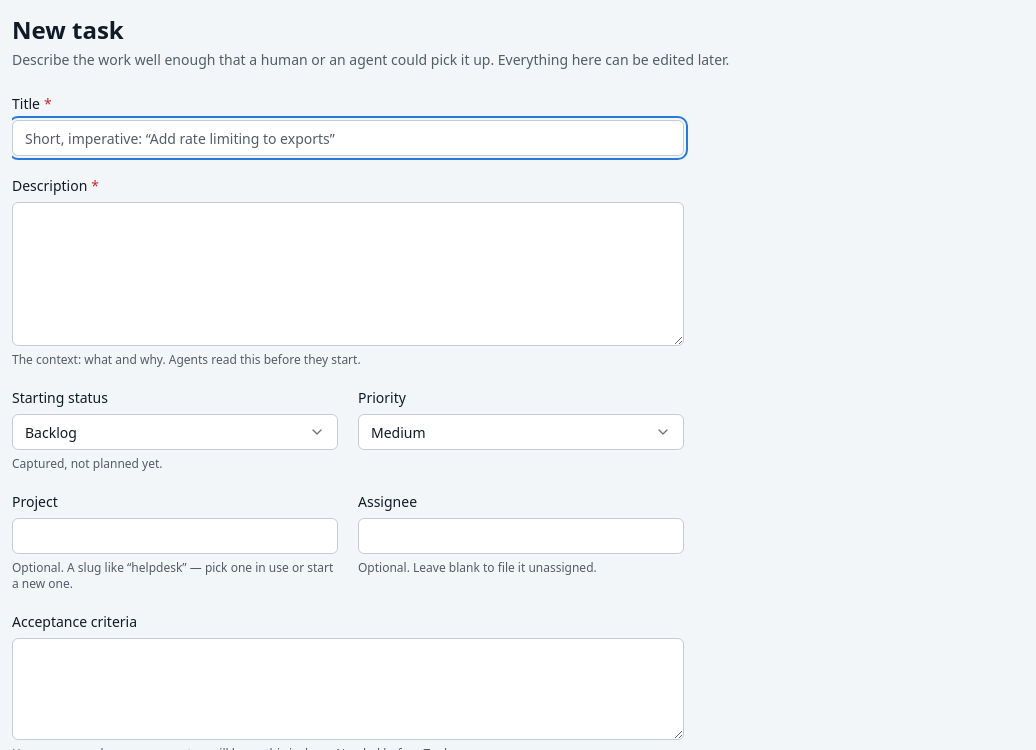
Test: TaskCreatePage › keeps every typed value when the server rejects the payload
Type "Add rate limiting to exports" into the field labelled "Title*" at (348, 138), box [12,120,684,156]
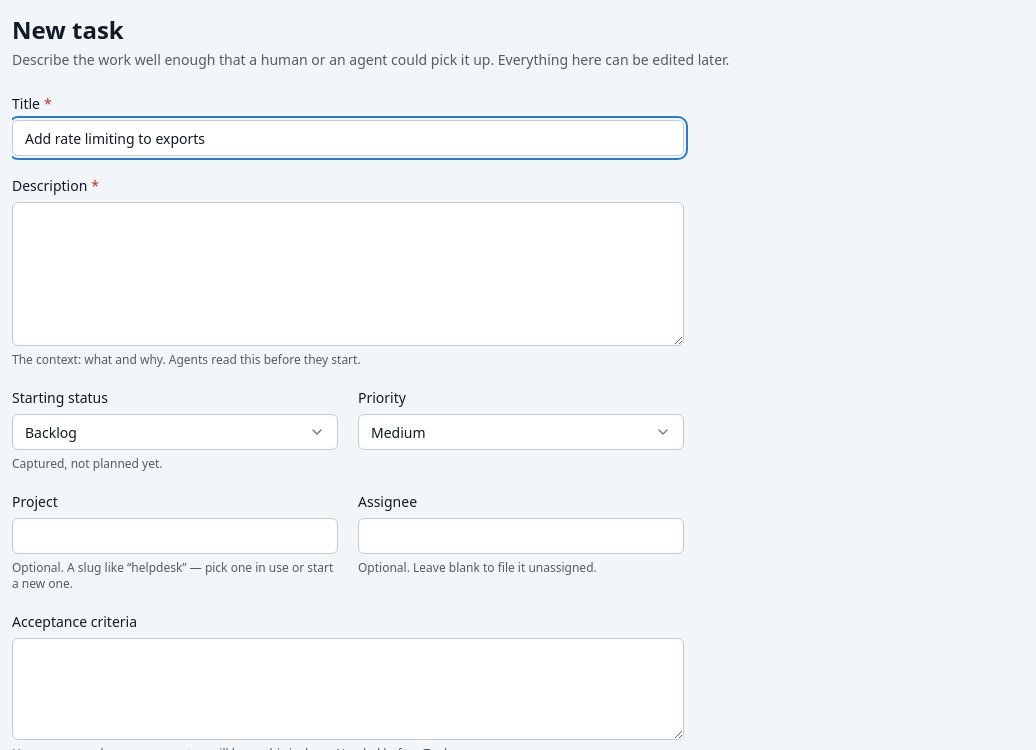
Type "Exports time out under load; throttle per client." into the text box labelled "Description*" at (348, 274), box [12,202,684,346]
(page scrolled)
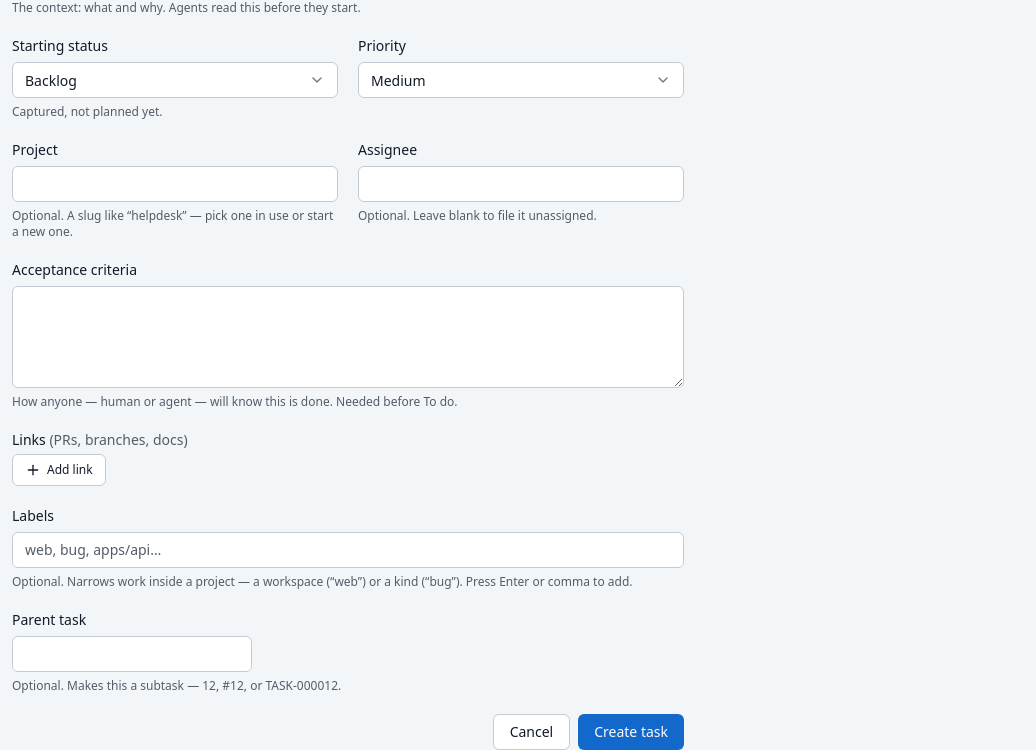
Click the button "Create task" at (631, 732), box [578,714,684,749]
(page scrolled)
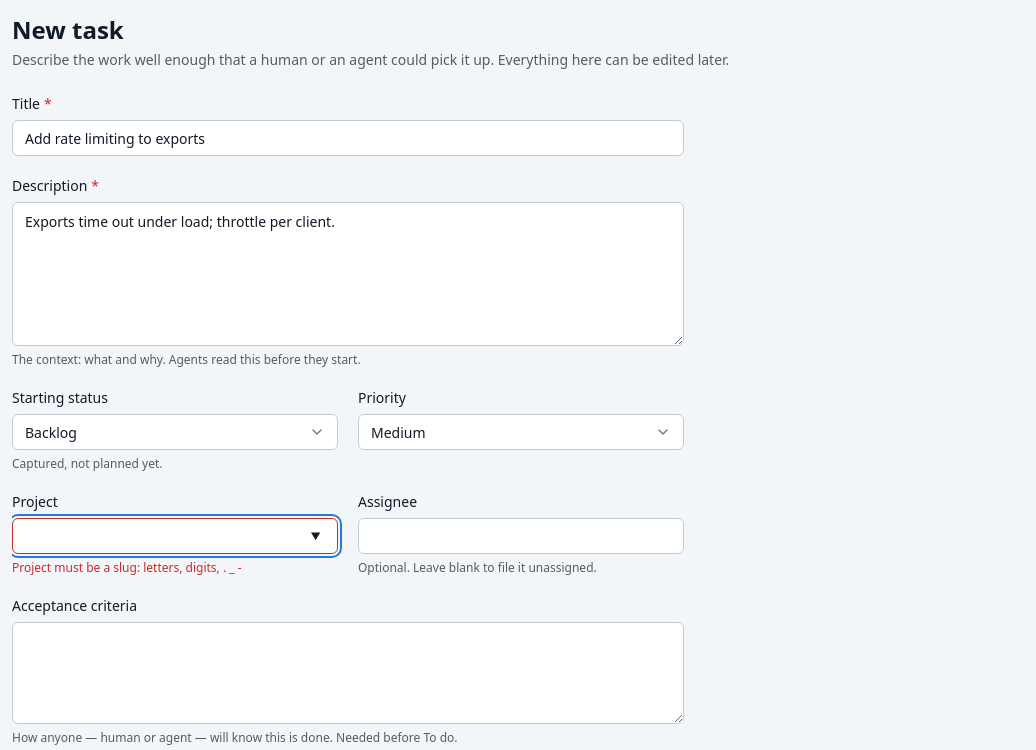
expect the text "Project must be a slug: letters, digits, . _ -" is shown: met, box [12,559,242,576]
